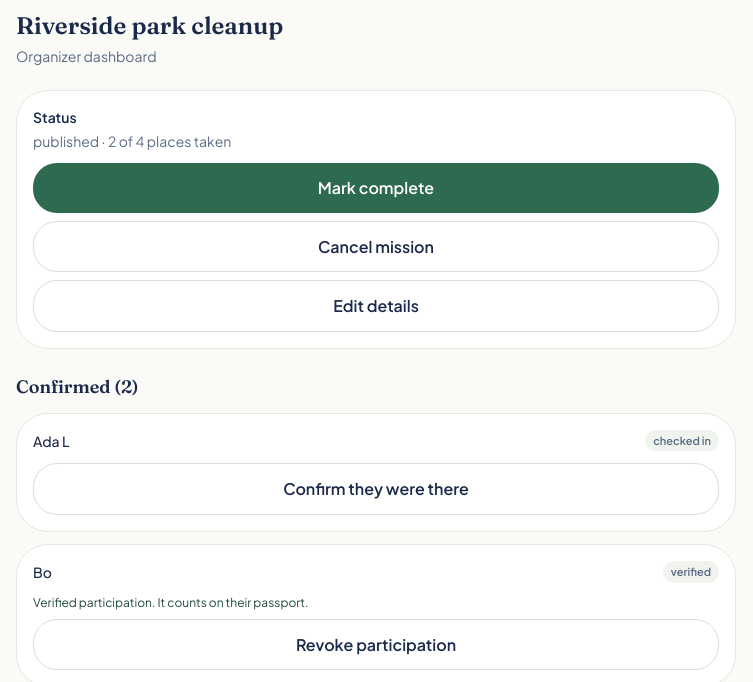
MissionManage › refuses a revocation without a recorded reason
Click the button "Revoke participation": (376, 644) [33,619,719,670]
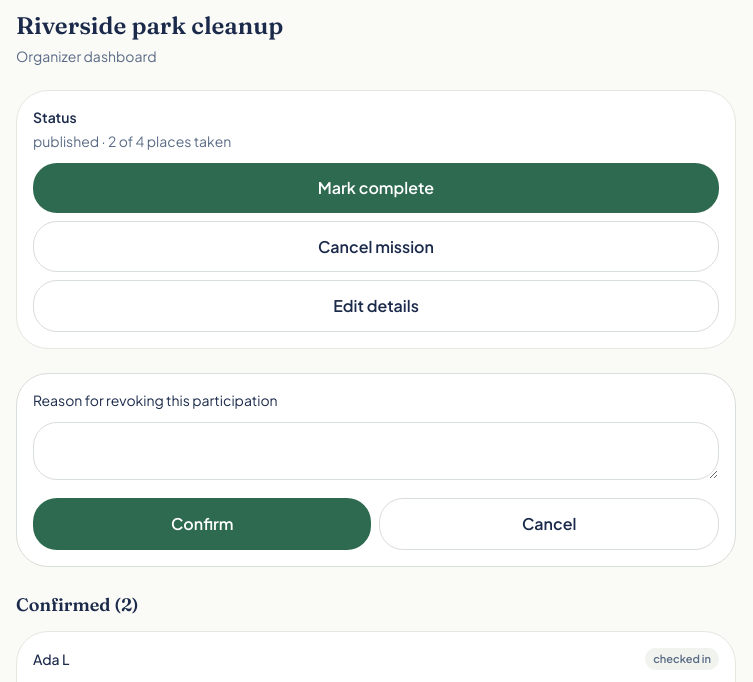
In the text box labelled "Reason for revoking this participation": (376, 451) [33,422,719,480], type "no"
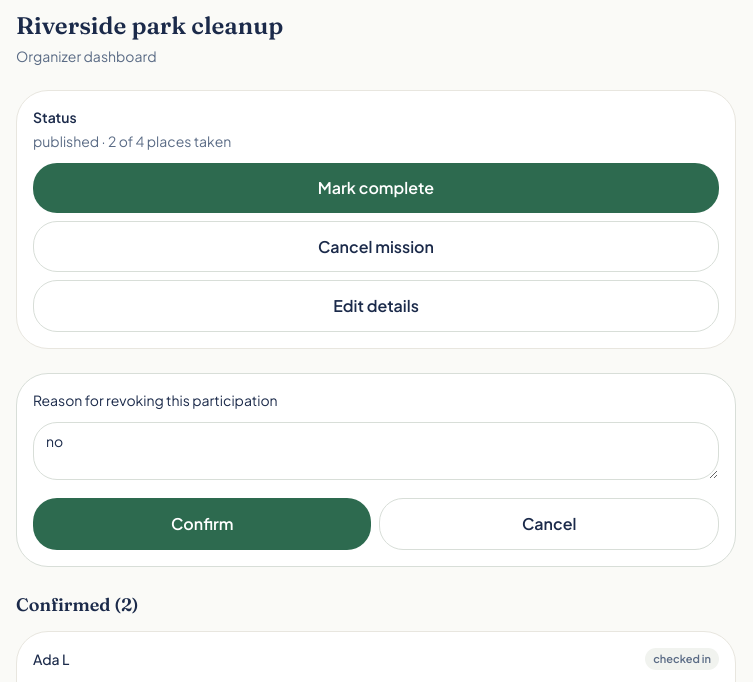
Click the button "Confirm": (202, 524) [33,498,372,550]
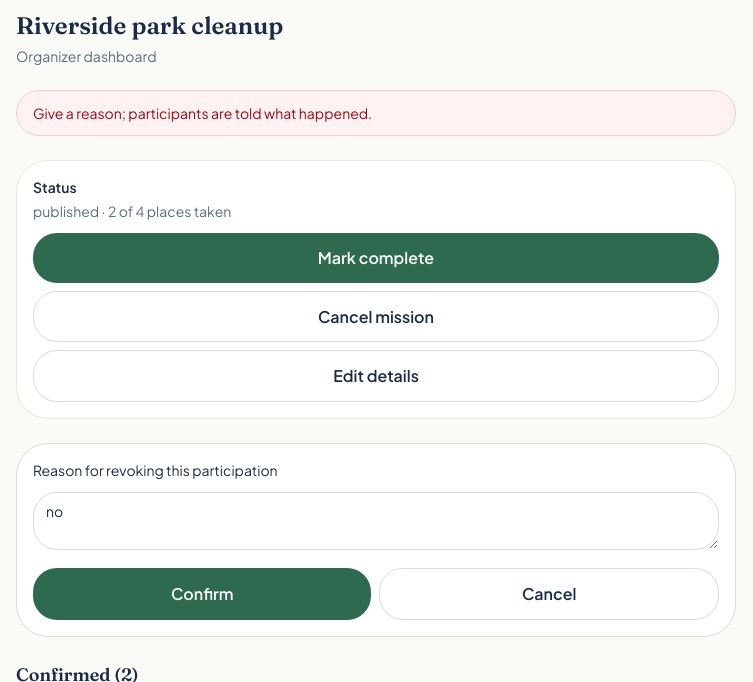
Result: the message "Give a reason; participants are told what happened." is shown at [16,90,736,136]
